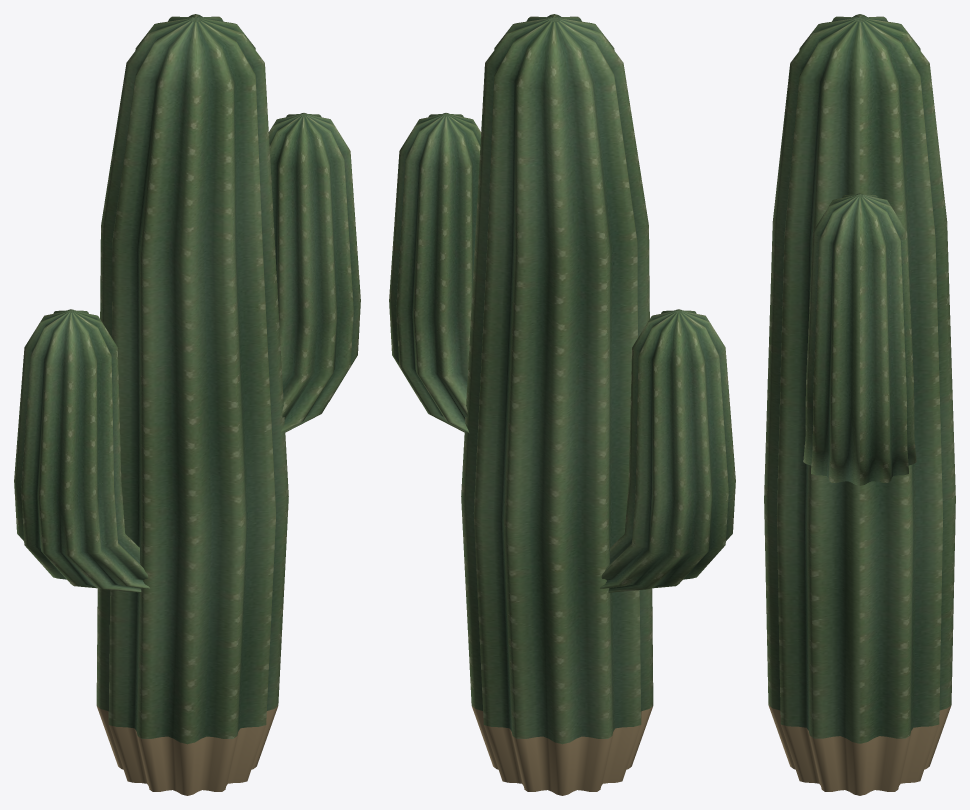
File: SM_Saguaro.glb
3 renders of one model, left to right at view 1: azimuth 30°, elevation 25°; view 2: azimuth 150°, elevation 25°; view 3: azimuth 270°, elevation 25°, orthographic.
Parts seen in each view (by area): view 1: SM_Saguaro; view 2: SM_Saguaro; view 3: SM_Saguaro.
Part boxes in pixels (left/top/right/bottom): SM_Saguaro: left=14, top=14, right=360, bottom=795; SM_Saguaro: left=389, top=14, right=735, bottom=795; SM_Saguaro: left=764, top=14, right=955, bottom=795.
Bounding box in the file's own units: 0.9716 × 2.08 × 0.4818.
3 materials, 2 textured.
